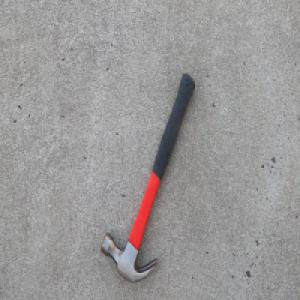Hammer: (100, 72, 195, 285)
